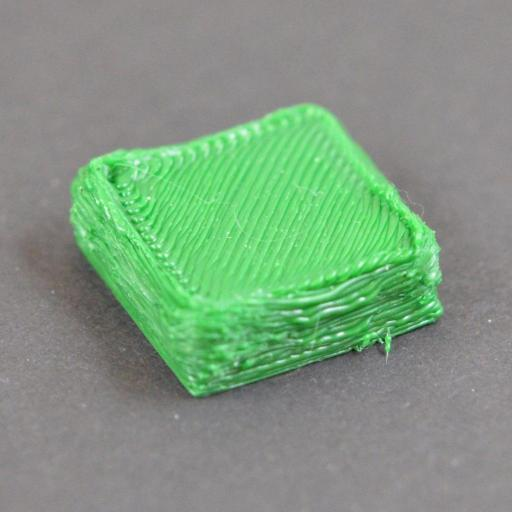blobs: (170, 234, 450, 402)
